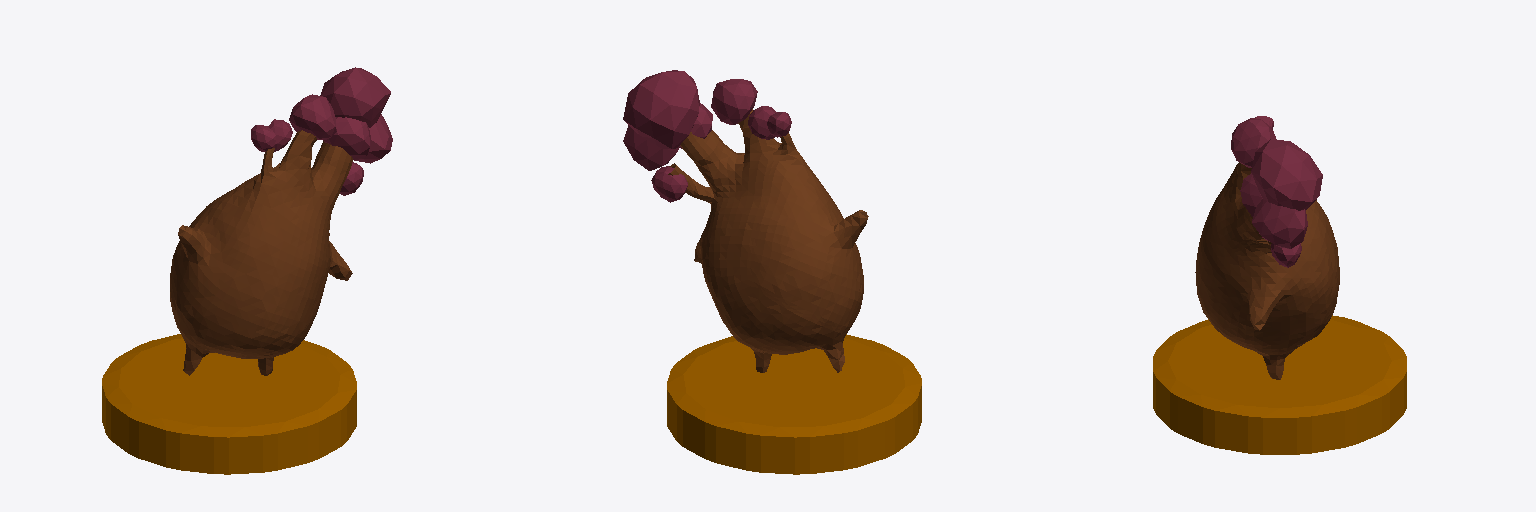
Rendered from BlossomGuyTrophy.obj.
The picture shows the model from 3 angles: view 1: azimuth 30°, elevation 25°; view 2: azimuth 150°, elevation 25°; view 3: azimuth 270°, elevation 25°; orthographic projection.
Visible parts, largest first — view 1: little_Mush2_007, Cylinder; view 2: little_Mush2_007, Cylinder; view 3: Cylinder, little_Mush2_007.
Part boxes in pixels (left/top/right/bottom): little_Mush2_007: left=170, top=67, right=392, bottom=375; Cylinder: left=102, top=334, right=356, bottom=474; little_Mush2_007: left=623, top=70, right=868, bottom=372; Cylinder: left=667, top=334, right=921, bottom=474; Cylinder: left=1153, top=315, right=1406, bottom=454; little_Mush2_007: left=1195, top=116, right=1339, bottom=379.
Bounding box in the file's own units: 0.4992 × 0.5641 × 0.4021.